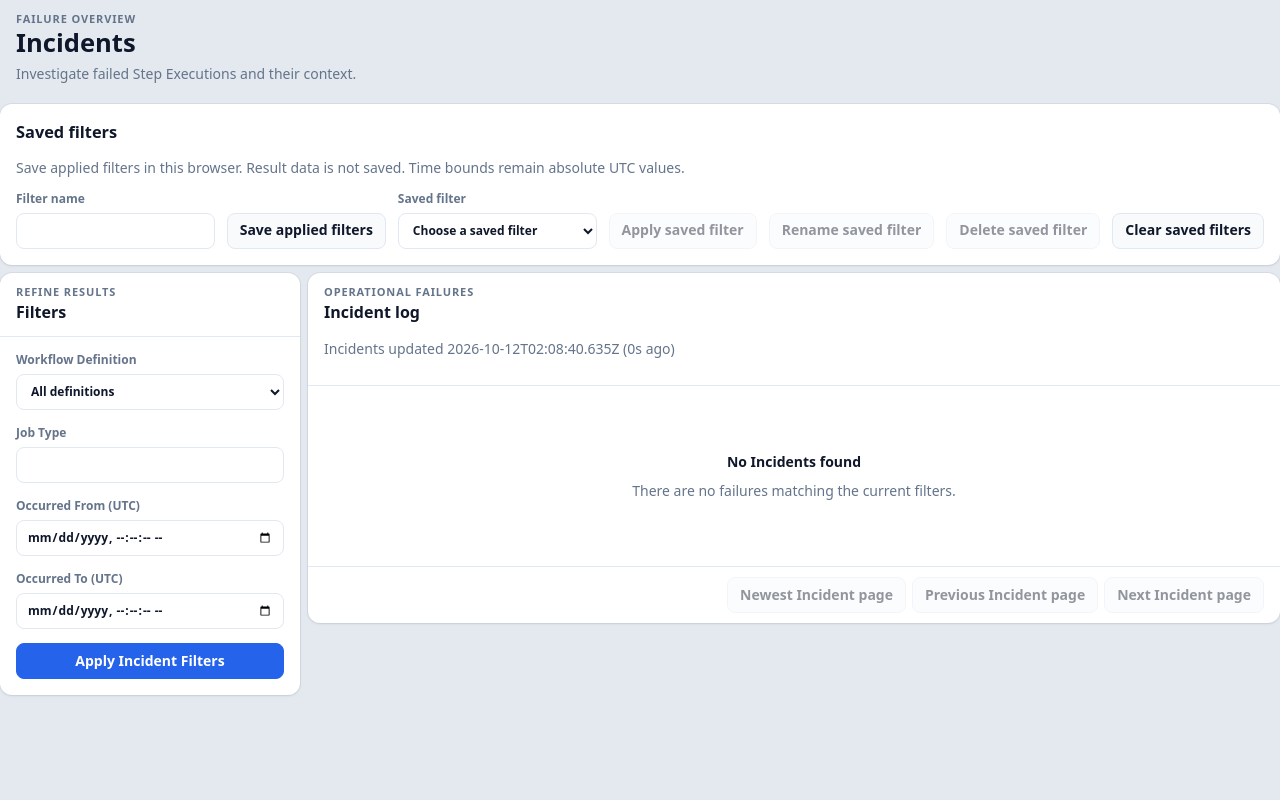
Test: explains a reversed occurrence range while keeping Incident filters visible
Expected: the button "Apply Incident Filters" is shown, 16,643 -> 284,679
Type "2026-02-01T00:00" into the field labelled "Occurred From (UTC)" at (150, 538), box 16,520 -> 284,556
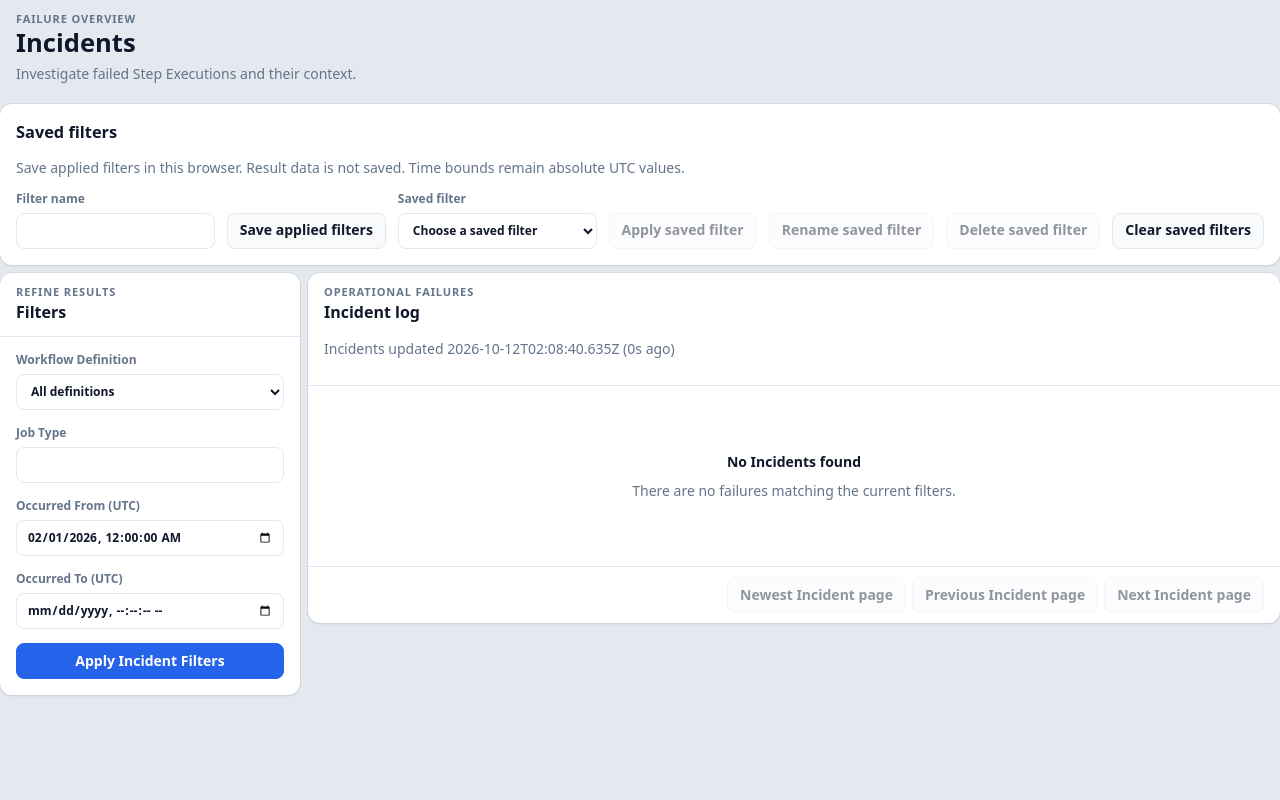
Type "2026-01-01T00:00" into the field labelled "Occurred To (UTC)" at (150, 611), box 16,593 -> 284,629
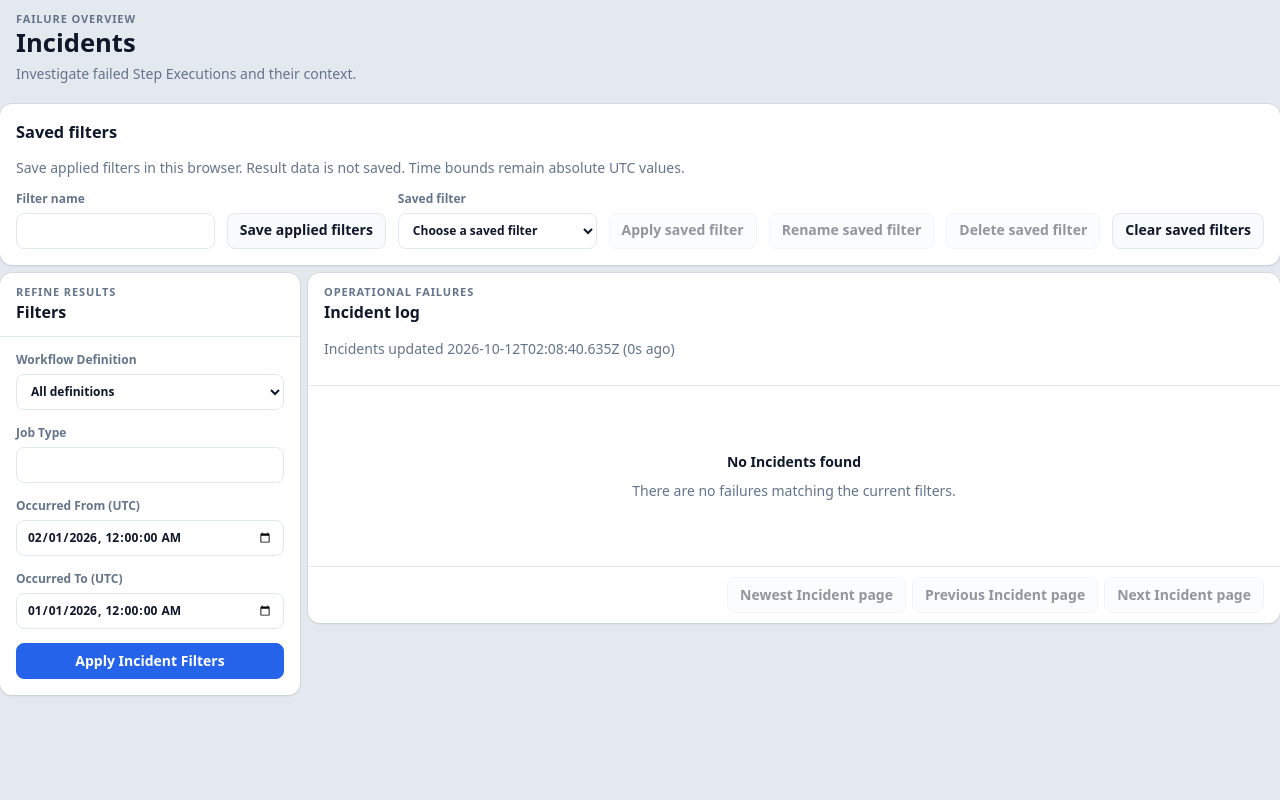
Click the button "Apply Incident Filters" at (150, 661), box 16,643 -> 284,679
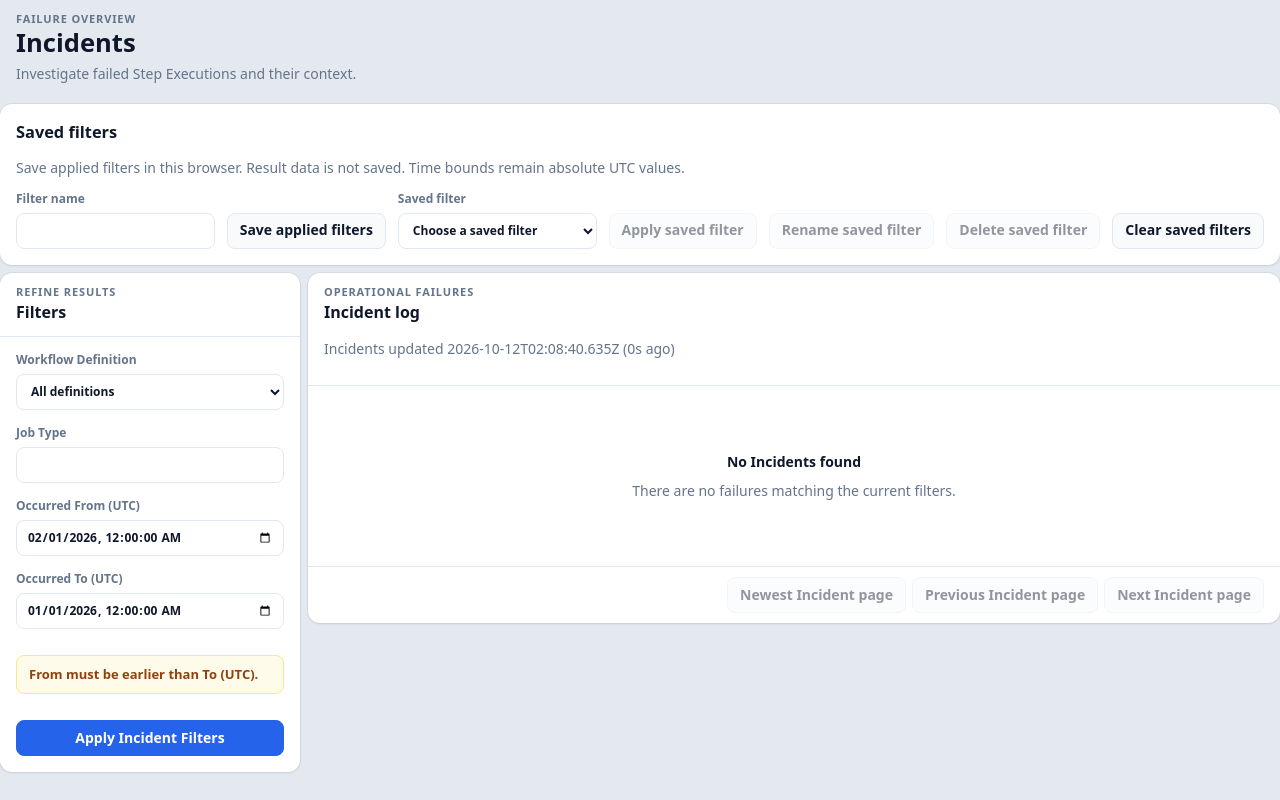
Result: the message reads "From must be earlier than To (UTC)." at 29,665 -> 258,683
